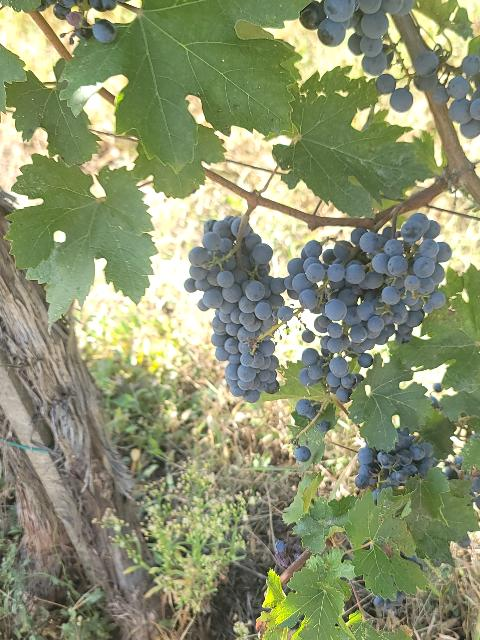grapes: (285, 212, 451, 401), (184, 216, 285, 402)
